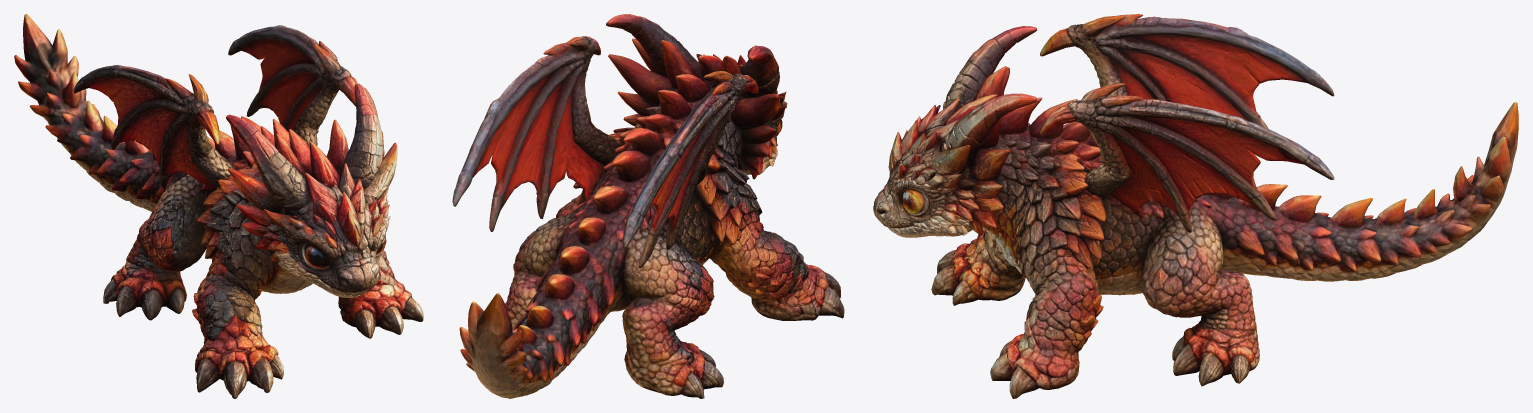
The model's file is draksel.glb.
3 views of the same model, side by side, from view 1: azimuth 30°, elevation 25°; view 2: azimuth 150°, elevation 25°; view 3: azimuth 270°, elevation 25° (orthographic). The views are drawn at different scales.
Parts seen in each view (by area): view 1: plush; view 2: plush; view 3: plush.
Part boxes in pixels (x1,y1,x2,y2): plush: (14, 14, 423, 398); plush: (452, 14, 844, 398); plush: (873, 14, 1518, 398).
Bounding box in the file's own units: 0.4739 × 0.4764 × 0.979.
1 material, 1 textured.
